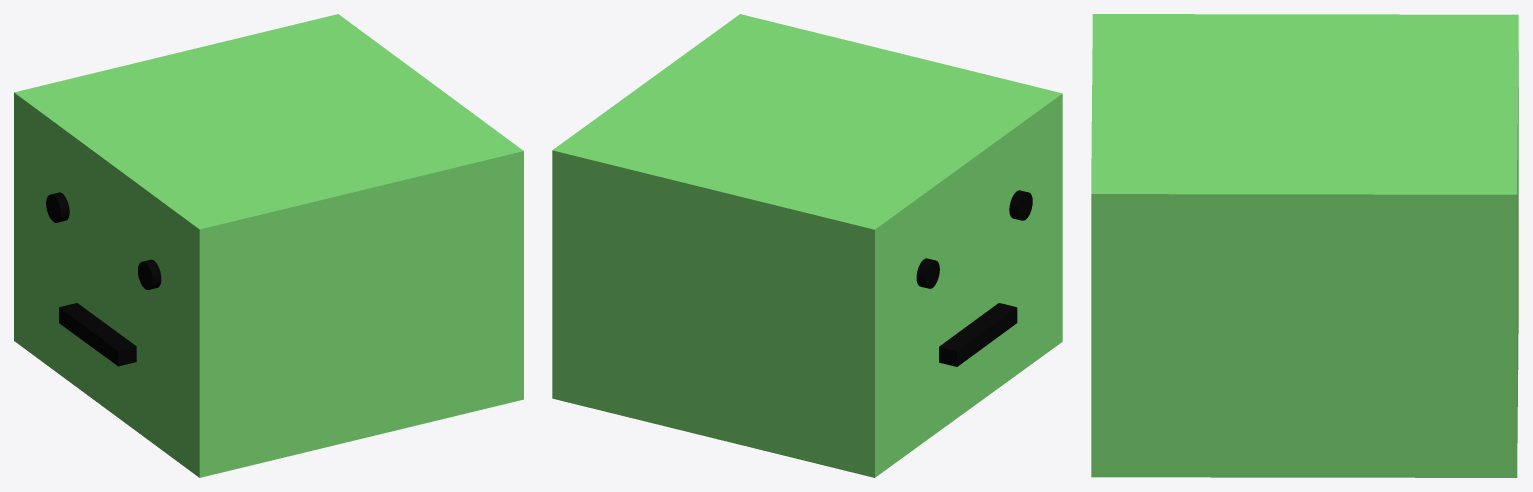
File: packet01.glb
3 views of the same model, side by side, from view 1: azimuth 30°, elevation 25°; view 2: azimuth 150°, elevation 25°; view 3: azimuth 270°, elevation 25° (orthographic). The views are drawn at different scales.
Parts seen in each view (by area): view 1: 立方体, 口, 右目, 左目; view 2: 立方体, 口, 左目, 右目; view 3: 立方体.
Boxes of the visible parts, x1,y1,x2,y2 form: 立方体: [14, 14, 523, 477]; 口: [59, 303, 136, 366]; 右目: [46, 192, 69, 222]; 左目: [138, 259, 161, 289]; 立方体: [552, 14, 1062, 477]; 口: [939, 303, 1017, 366]; 左目: [1009, 190, 1032, 220]; 右目: [916, 258, 939, 288]; 立方体: [1091, 14, 1518, 477].
Bounding box in the file's own units: 2.12 × 1.47 × 2.01.
